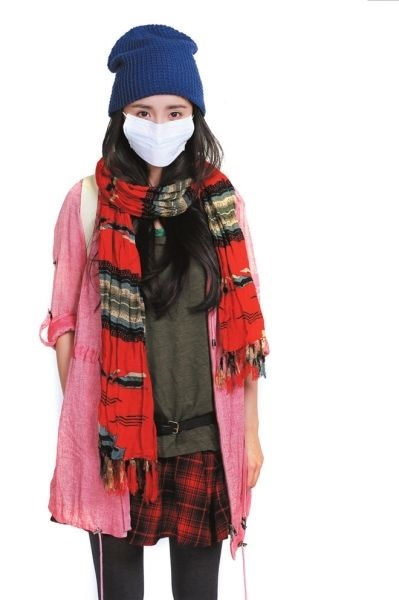face_mask: (123, 69, 193, 166)
